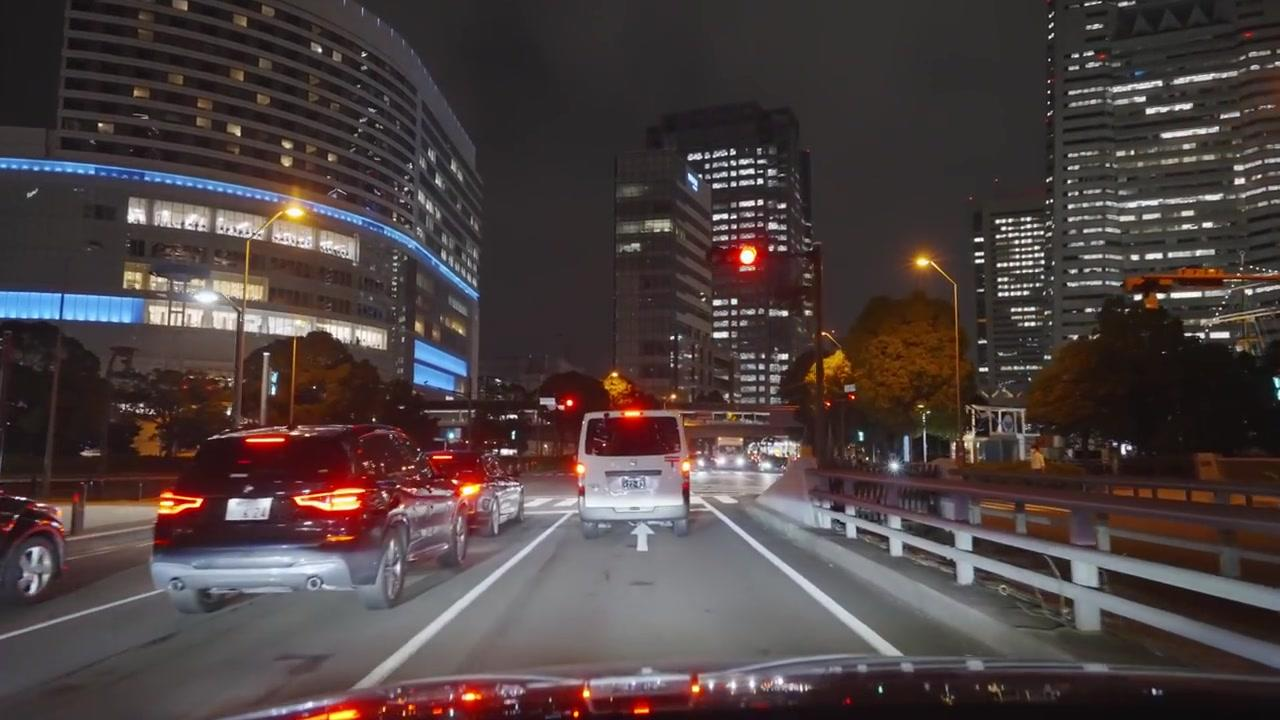car: (152, 423, 472, 616), (426, 450, 526, 536), (0, 491, 67, 601), (761, 456, 787, 472)
traffic light: (736, 243, 761, 272), (560, 396, 576, 411), (846, 385, 856, 399)
truck: (573, 409, 693, 540)
